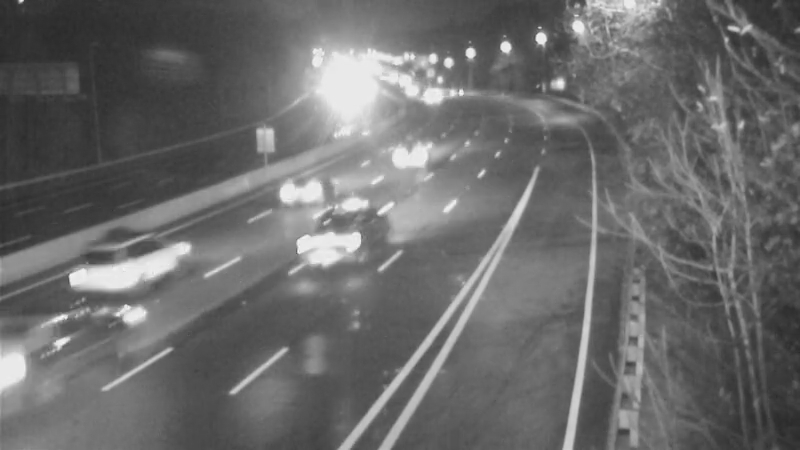vehicle: (1, 311, 92, 421), (365, 117, 445, 197), (265, 142, 345, 222), (287, 201, 367, 281), (70, 224, 150, 304)
